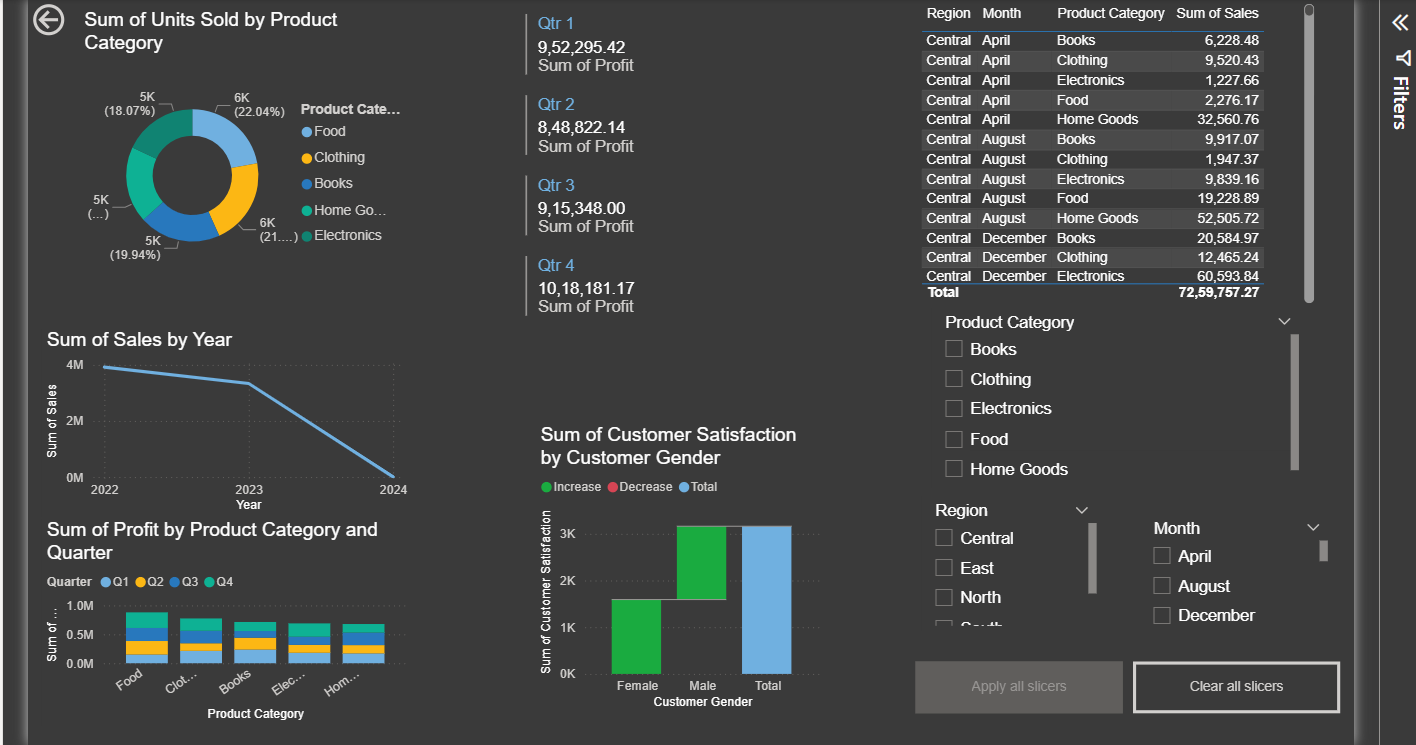

The page's visual inventory and layout, read from the dashboard file:
{"tool":"powerbi","page":{"name":"Page 3","canvas":[1280,720],"ordinal":2},"visuals":[{"type":"donutChart","fields":{"Category":["Sales_Data_Analysis.Product Category"],"Y":["Sum(Sales_Data_Analysis.Units Sold)"]},"box":[50,10,321.7,280],"z":0},{"type":"lineChart","fields":{"Category":["Sales_Data_Analysis.Date.Variation.Date Hierarchy.Year"],"Y":["Sum(Sales_Data_Analysis.Sales)"]},"box":[13.3,318.3,358.3,181.7],"z":1000},{"type":"multiRowCard","fields":{"Values":["Sales_Data_Analysis.Date.Variation.Date Hierarchy.Quarter","Sum(Sales_Data_Analysis.Profit)"]},"box":[475,10,308.3,351.7],"z":2000},{"type":"waterfallChart","fields":{"Category":["Sales_Data_Analysis.Customer Gender"],"Y":["Sum(Sales_Data_Analysis.Customer Satisfaction)"]},"box":[490,410,280,280],"z":3000},{"type":"lineStackedColumnComboChart","fields":{"Category":["Sales_Data_Analysis.Product Category"],"Series":["Sales_Data_Analysis.Quarter"],"Y":["Sum(Sales_Data_Analysis.Profit)"]},"box":[13.3,501.7,358.3,200],"z":4000},{"type":"slicer","fields":{"Values":["Sales_Data_Analysis.Month"]},"box":[1073.7,496.5,186,114],"z":8000},{"type":"slicer","fields":{"Values":["Sales_Data_Analysis.Region"]},"box":[863.2,480.7,173.7,129.8],"z":9000},{"type":"slicer","fields":{"Values":["Sales_Data_Analysis.Product Category"]},"box":[871.9,298.2,359.6,173.7],"z":10000},{"type":"actionButton","box":[856.7,640,200,50],"z":11000},{"type":"actionButton","box":[1066.7,640,200,50],"z":12000},{"type":"tableEx","fields":{"Values":["Sales_Data_Analysis.Region","Sales_Data_Analysis.Month","Sales_Data_Analysis.Product Category","Sum(Sales_Data_Analysis.Sales)"]},"box":[856.1,0,389.5,298.2],"z":13000},{"type":"actionButton","box":[0,0,100,40],"z":14000}]}

Visuals, with their boxes on the page's 1280x720 design canvas (x1, y1, x2, y2). These are canvas units, not pixel positions in the 1416x745 screenshot, which may show the page scaled, cropped or inside an application window:
donutChart - Sales_Data_Analysis.Product Category x Sum(Sales_Data_Analysis.Units Sold): left=50, top=10, right=372, bottom=290
lineChart - Sales_Data_Analysis.Date.Variation.Date Hierarchy.Year x Sum(Sales_Data_Analysis.Sales): left=13, top=318, right=372, bottom=500
multiRowCard - Sales_Data_Analysis.Date.Variation.Date Hierarchy.Quarter x Sum(Sales_Data_Analysis.Profit): left=475, top=10, right=783, bottom=362
waterfallChart - Sales_Data_Analysis.Customer Gender x Sum(Sales_Data_Analysis.Customer Satisfaction): left=490, top=410, right=770, bottom=690
lineStackedColumnComboChart - Sales_Data_Analysis.Product Category x Sales_Data_Analysis.Quarter: left=13, top=502, right=372, bottom=702
slicer - Sales_Data_Analysis.Month: left=1074, top=496, right=1260, bottom=610
slicer - Sales_Data_Analysis.Region: left=863, top=481, right=1037, bottom=610
slicer - Sales_Data_Analysis.Product Category: left=872, top=298, right=1232, bottom=472
actionButton: left=857, top=640, right=1057, bottom=690
actionButton: left=1067, top=640, right=1267, bottom=690
tableEx - Sales_Data_Analysis.Region x Sales_Data_Analysis.Month: left=856, top=0, right=1246, bottom=298
actionButton: left=0, top=0, right=100, bottom=40
